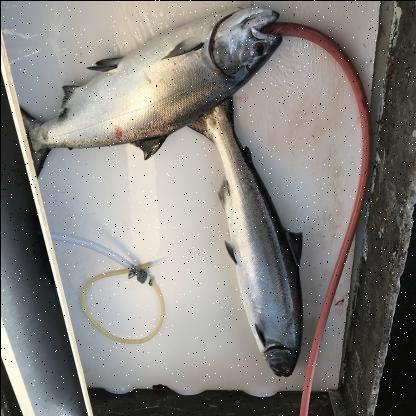fish: (16, 2, 284, 180), (174, 89, 310, 381)
